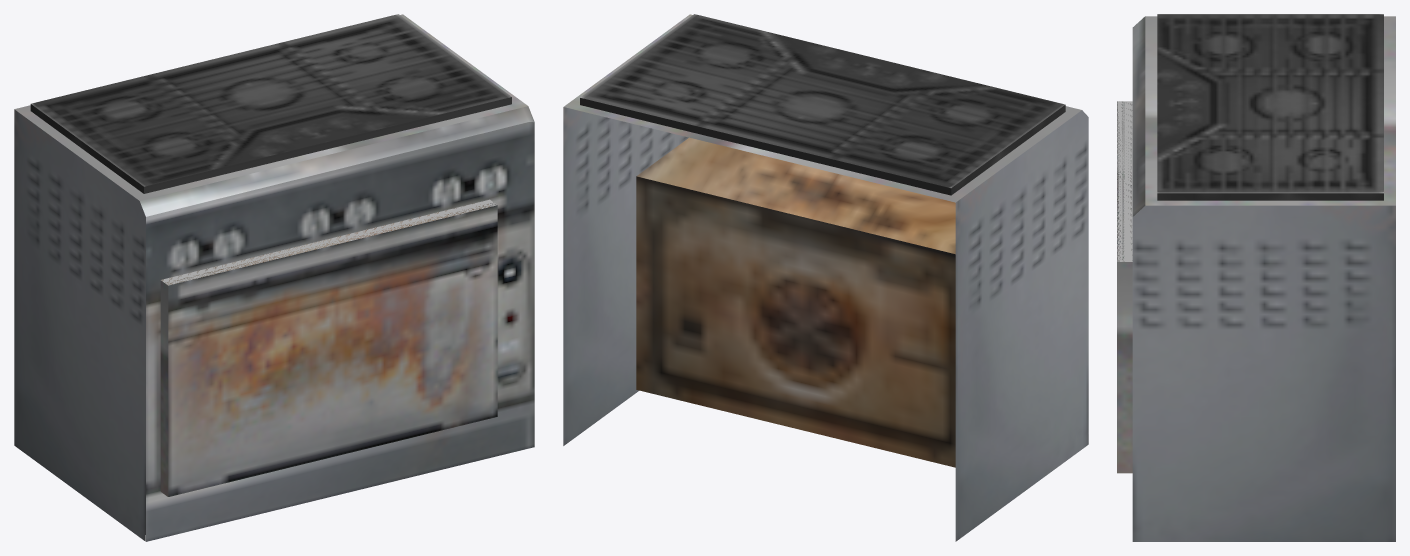
File: kitchen_stove.FBX
3 renders of one model, left to right at view 1: azimuth 30°, elevation 25°; view 2: azimuth 150°, elevation 25°; view 3: azimuth 270°, elevation 25°, orthographic.
Parts seen in each view (by area): view 1: kitchen_stove, kitchen_stove_door; view 2: kitchen_stove; view 3: kitchen_stove, kitchen_stove_door.
Boxes of the visible parts, x1=… form: kitchen_stove: x1=14, y1=14, x2=534, y2=541; kitchen_stove_door: x1=160, y1=199, x2=497, y2=496; kitchen_stove: x1=563, y1=14, x2=1088, y2=541; kitchen_stove: x1=1132, y1=14, x2=1395, y2=541; kitchen_stove_door: x1=1117, y1=101, x2=1132, y2=473.
Bounding box in the file's own units: 75.3 × 63.61 × 46.78.
